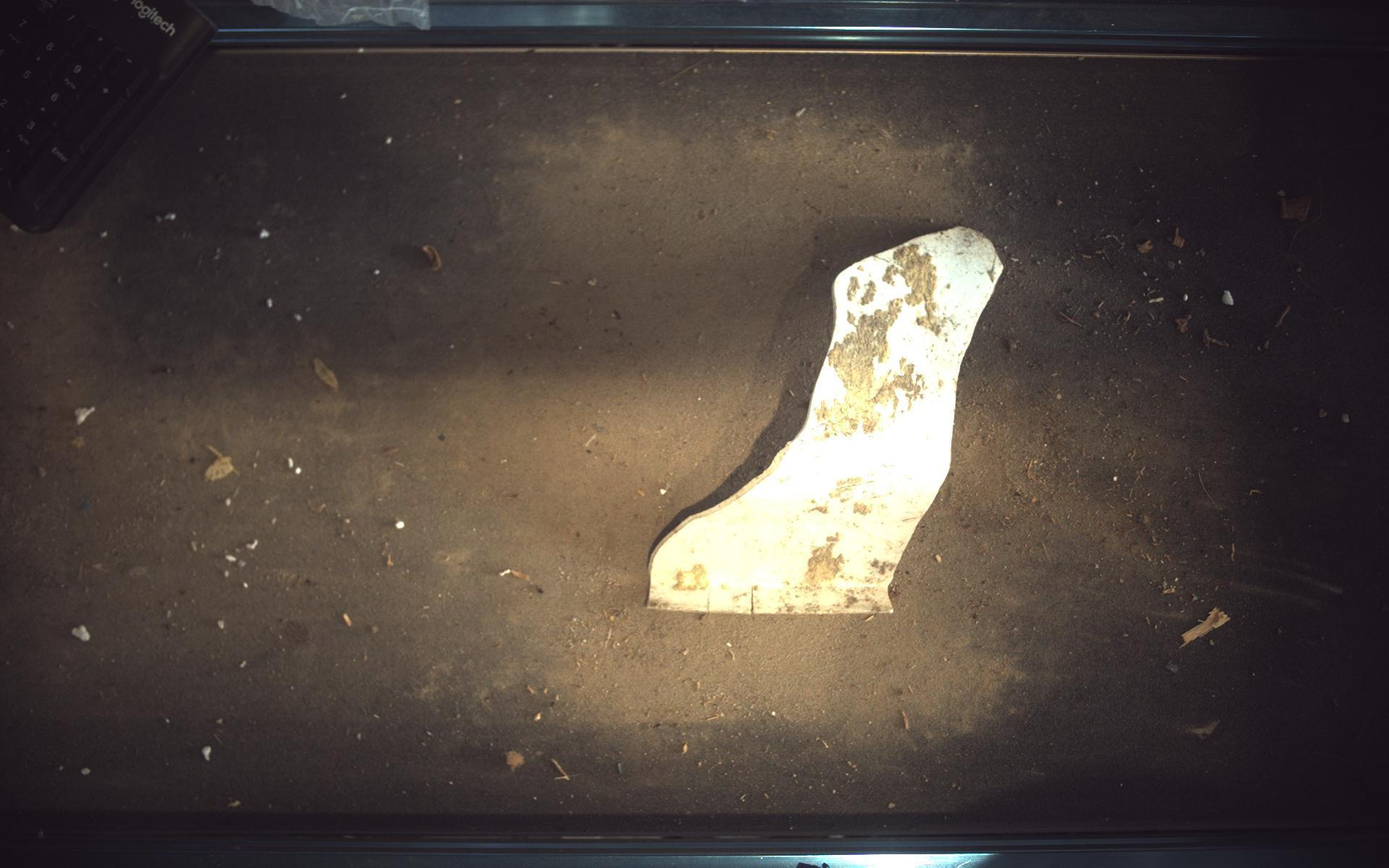plastic: (649, 226, 1006, 615)
